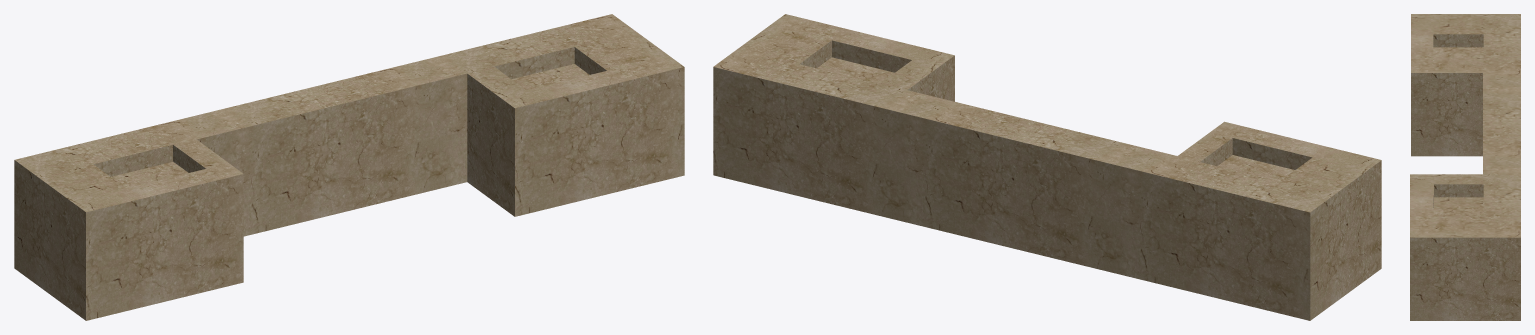
The model's file is pasted__stone_column_514.fbx.
3 views of the same model, side by side, from view 1: azimuth 30°, elevation 25°; view 2: azimuth 150°, elevation 25°; view 3: azimuth 270°, elevation 25° (orthographic). The views are drawn at different scales.
Visible parts, largest first — view 1: pasted__stone_column_514; view 2: pasted__stone_column_514; view 3: pasted__stone_column_514.
Part boxes in pixels (x1,y1,x2,y2): pasted__stone_column_514: [14, 14, 684, 320]; pasted__stone_column_514: [713, 14, 1381, 320]; pasted__stone_column_514: [1410, 14, 1520, 320].
Size of the model in its own units: 1109 by 232 by 192.
